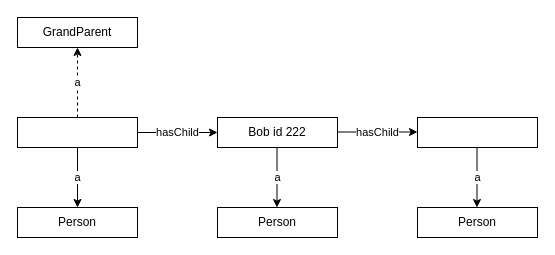
The diagram is 555 pixels wide and 255 high, and some of its shapes have lost their labels. Each missing label, with the centre of its shape:
Alice id 111: point 77,132
Charlie id 333: point 477,132
